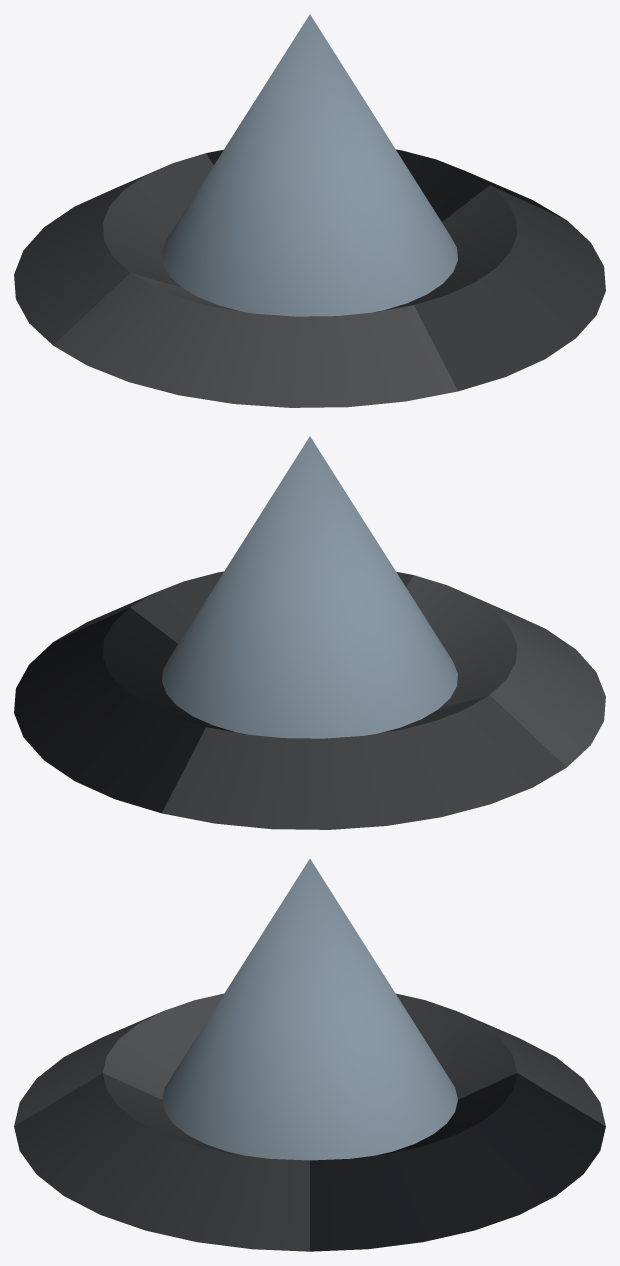
File: UpNeedle.obj
3 renders of one model, top to bottom at view 1: azimuth 30°, elevation 25°; view 2: azimuth 150°, elevation 25°; view 3: azimuth 270°, elevation 25°, orthographic.
Parts seen in each view (by area): view 1: UpNeedle; view 2: UpNeedle; view 3: UpNeedle.
Part boxes in pixels (<box>): UpNeedle: <box>14,14,605,407</box>; UpNeedle: <box>14,436,605,829</box>; UpNeedle: <box>14,859,605,1251</box>.
Bounding box in the file's own units: 2 × 1 × 2.
1 material, 1 textured.
